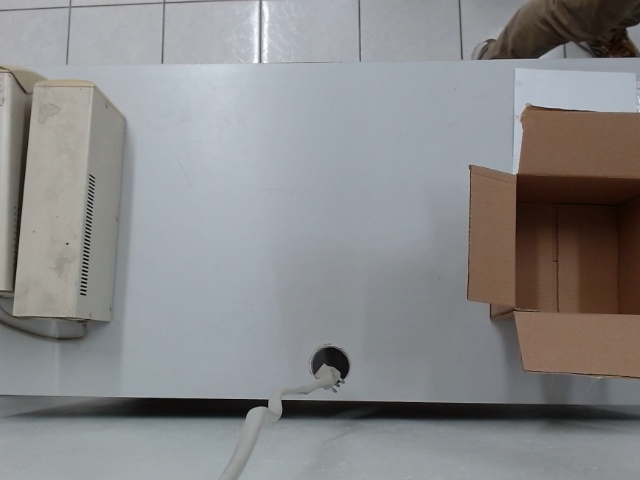divisor: (511, 65, 639, 179)
